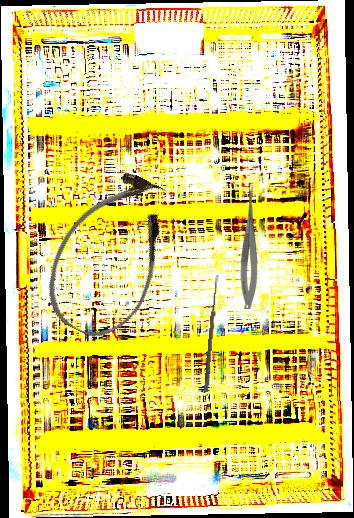Cannula: (28, 158, 195, 352)
Micro Scissor: (240, 182, 258, 309)
Surgical Spoon: (203, 275, 220, 392)
